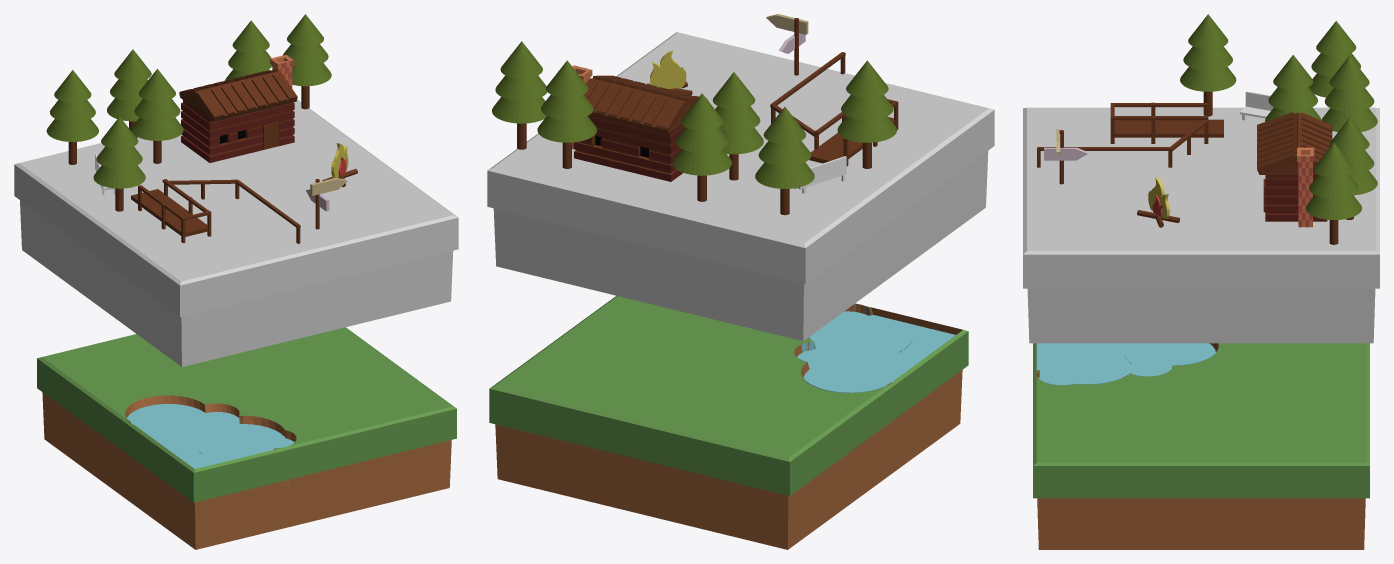
Rendered from bosque3.fbx.
The picture shows the model from 3 angles, left to right: view 1: azimuth 30°, elevation 25°; view 2: azimuth 150°, elevation 25°; view 3: azimuth 270°, elevation 25°; orthographic projection. The views are drawn at different scales.
Visible parts, largest first — view 1: Cube.003, Cylinder.003, Cube.001, Cylinder.004, Cylinder.002, Cylinder.000, Cylinder.008, Cube.013, Cylinder.001, Cylinder.009, Cube.002; view 2: Cylinder.003, Cube.003, Cube.001, Cylinder.009, Cylinder.004, Cylinder.001, Cylinder.000, Cylinder.008, Cylinder.002, Cube.013, BezierCurve, Cube.002 (+1 smaller); view 3: Cylinder.003, Cube.003, Cube.001, Cylinder.008, Cylinder.004, Cylinder.001, Cube.013, Cylinder.002, Cylinder.000, Cube.002, Cylinder.009, Cube (+3 smaller).
Part boxes in pixels (x1,y1,x2,y2): Cube.003: (14, 99, 458, 366); Cylinder.003: (37, 327, 456, 549); Cube.001: (179, 69, 297, 162); Cylinder.004: (93, 116, 145, 211); Cylinder.002: (131, 69, 183, 163); Cylinder.000: (46, 70, 98, 164); Cylinder.008: (283, 14, 331, 109); Cube.013: (138, 179, 300, 243); Cylinder.001: (107, 49, 151, 138); Cylinder.009: (225, 20, 272, 80); Cube.002: (131, 189, 208, 236); Cylinder.003: (489, 296, 968, 549); Cube.003: (487, 32, 994, 341); Cube.001: (574, 75, 707, 181); Cylinder.009: (537, 60, 596, 168); Cylinder.004: (837, 60, 896, 168); Cylinder.001: (672, 93, 731, 201); Cylinder.000: (755, 107, 814, 215); Cylinder.008: (492, 41, 547, 149); Cylinder.002: (712, 72, 763, 180); Cube.013: (770, 52, 898, 166); BezierCurve: (650, 50, 686, 88); Cube.002: (809, 117, 895, 163); Cylinder.003: (1033, 343, 1369, 549); Cube.003: (1023, 107, 1379, 343); Cube.001: (1257, 112, 1332, 221); Cylinder.008: (1306, 143, 1361, 244); Cylinder.004: (1180, 14, 1236, 116); Cylinder.001: (1321, 56, 1377, 132); Cube.013: (1037, 102, 1208, 167); Cylinder.002: (1265, 55, 1321, 121); Cylinder.000: (1309, 21, 1360, 97); Cube.002: (1114, 119, 1223, 137); Cylinder.009: (1329, 118, 1377, 219); Cube: (1297, 147, 1314, 227).
Size of the model in its own units: 889 by 1089 by 872.
